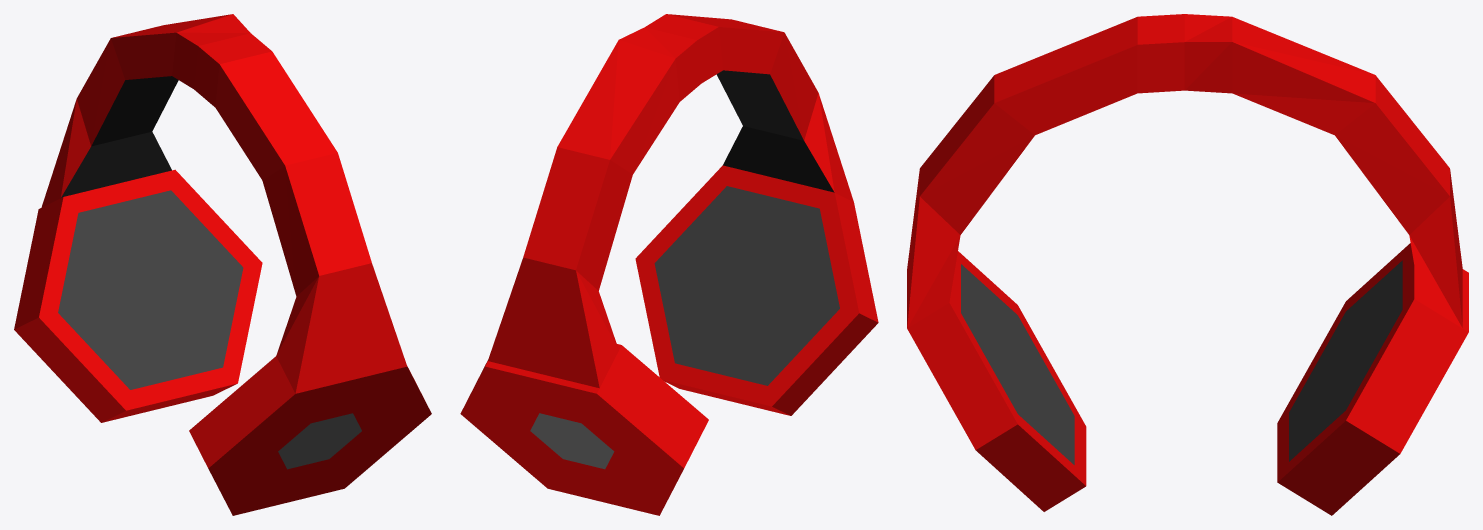
File: kulaklik.fbx
The picture shows the model from 3 angles, left to right: view 1: azimuth 30°, elevation 25°; view 2: azimuth 150°, elevation 25°; view 3: azimuth 270°, elevation 25°; orthographic projection. The views are drawn at different scales.
Parts seen in each view (by area): view 1: Cylinder_2; view 2: Cylinder_2; view 3: Cylinder_2.
Part boxes in pixels (<box>): Cylinder_2: <box>14,14,431,515</box>; Cylinder_2: <box>460,14,878,515</box>; Cylinder_2: <box>907,14,1468,515</box>.
Bounding box in the file's own units: 100 × 180 × 199.
